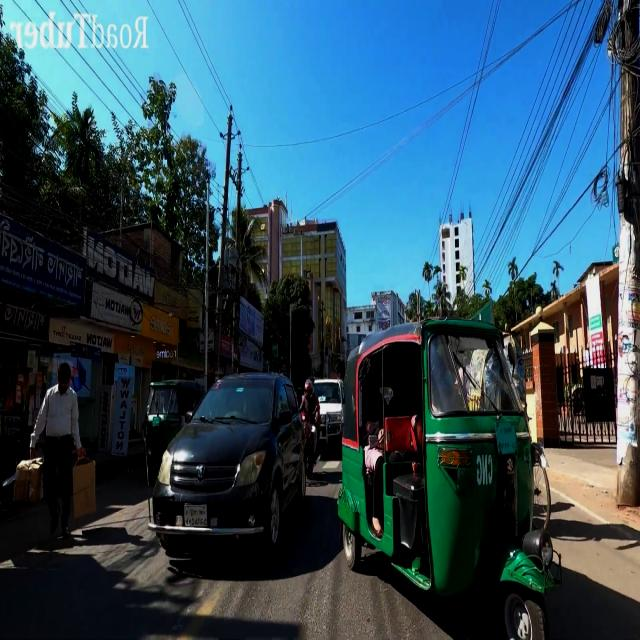black: (148, 366, 302, 564)
white: (317, 367, 344, 446)
